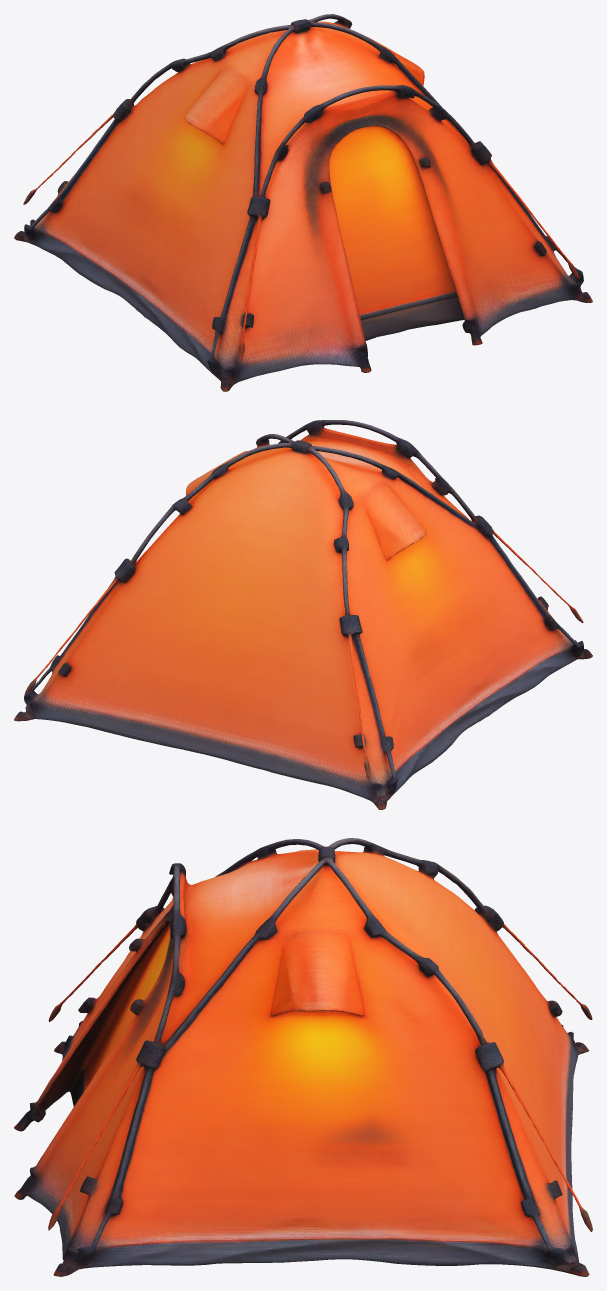
The model's file is base_basic_shaded.glb.
The picture shows the model from 3 angles, top to bottom: view 1: azimuth 30°, elevation 25°; view 2: azimuth 150°, elevation 25°; view 3: azimuth 270°, elevation 25°; orthographic projection. The views are drawn at different scales.
Parts seen in each view (by area): view 1: Mesh; view 2: Mesh; view 3: Mesh.
Part boxes in pixels (bbox=[...]): Mesh: bbox=[14, 14, 592, 391]; Mesh: bbox=[14, 420, 592, 809]; Mesh: bbox=[14, 838, 592, 1276].
Bounding box in the file's own units: 1.77 × 1.12 × 1.88.
1 material, 1 textured.
